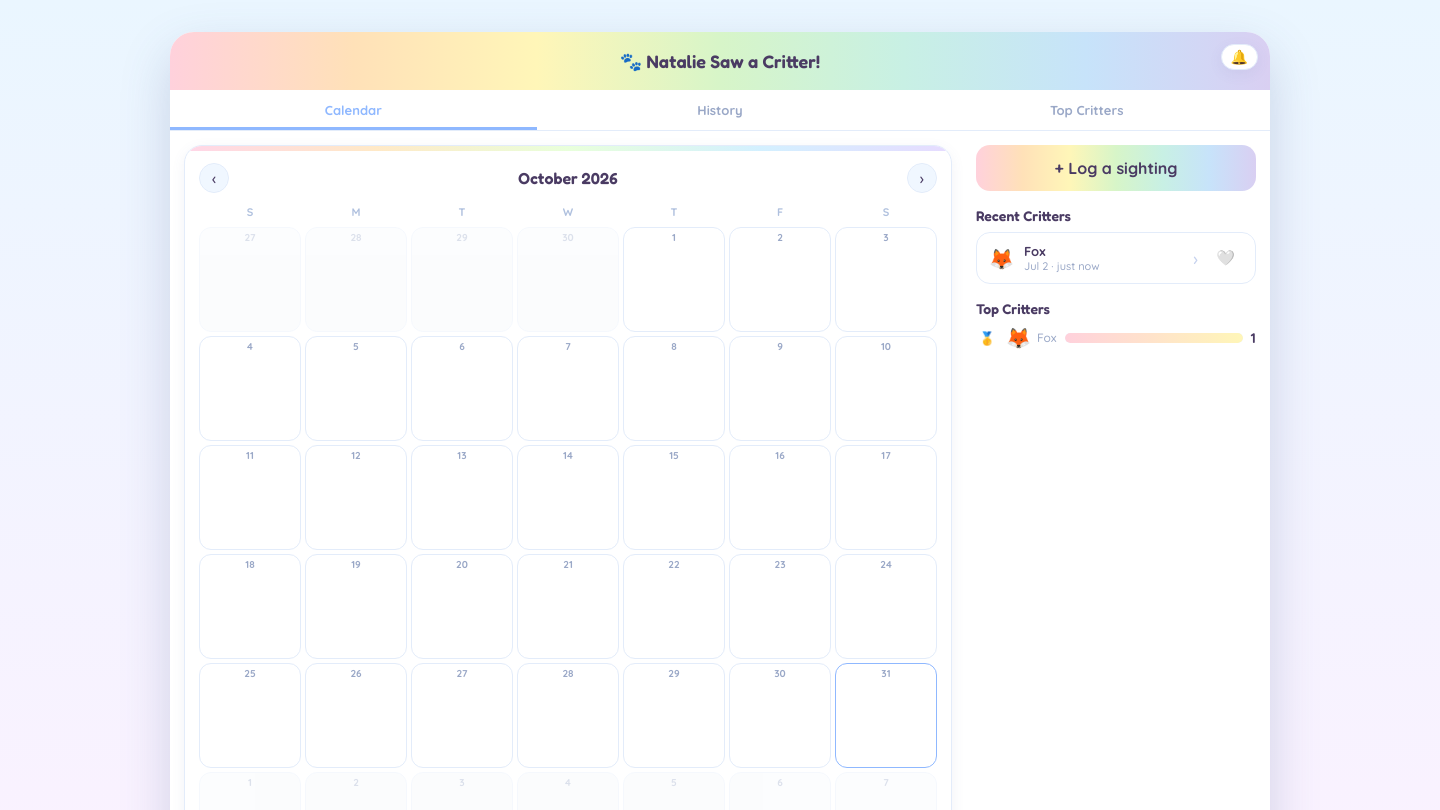
Scenario: stale-sheet self-heal (App.tsx adjust-during-render) › closes an open sighting detail sheet the instant its sighting disappears from the list
Click the button "🦊 Fox Jul 2 · just now ›" at (1094, 258), box [989,243,1198,273]
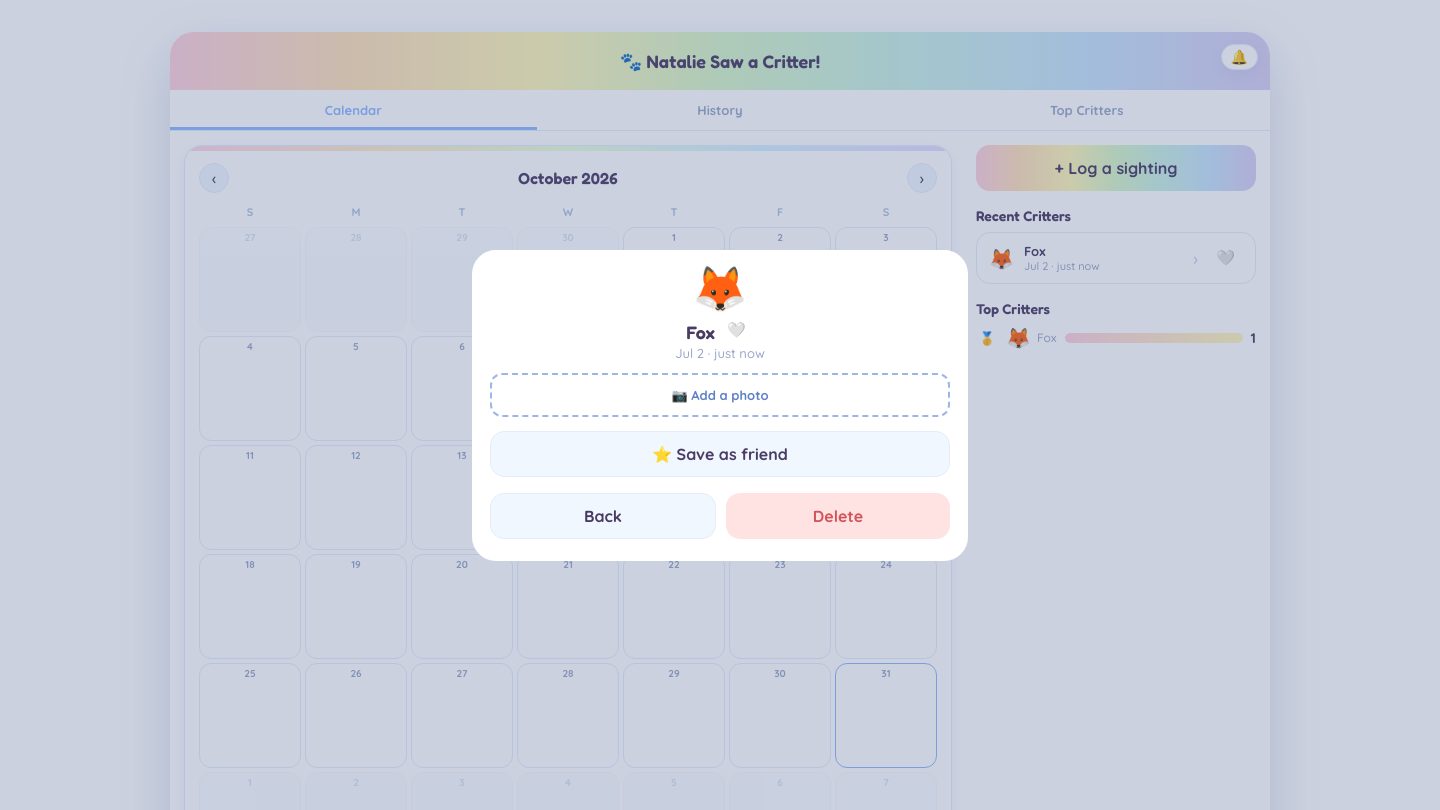
expect the button "Delete" is shown: met, box [726,492,950,538]
